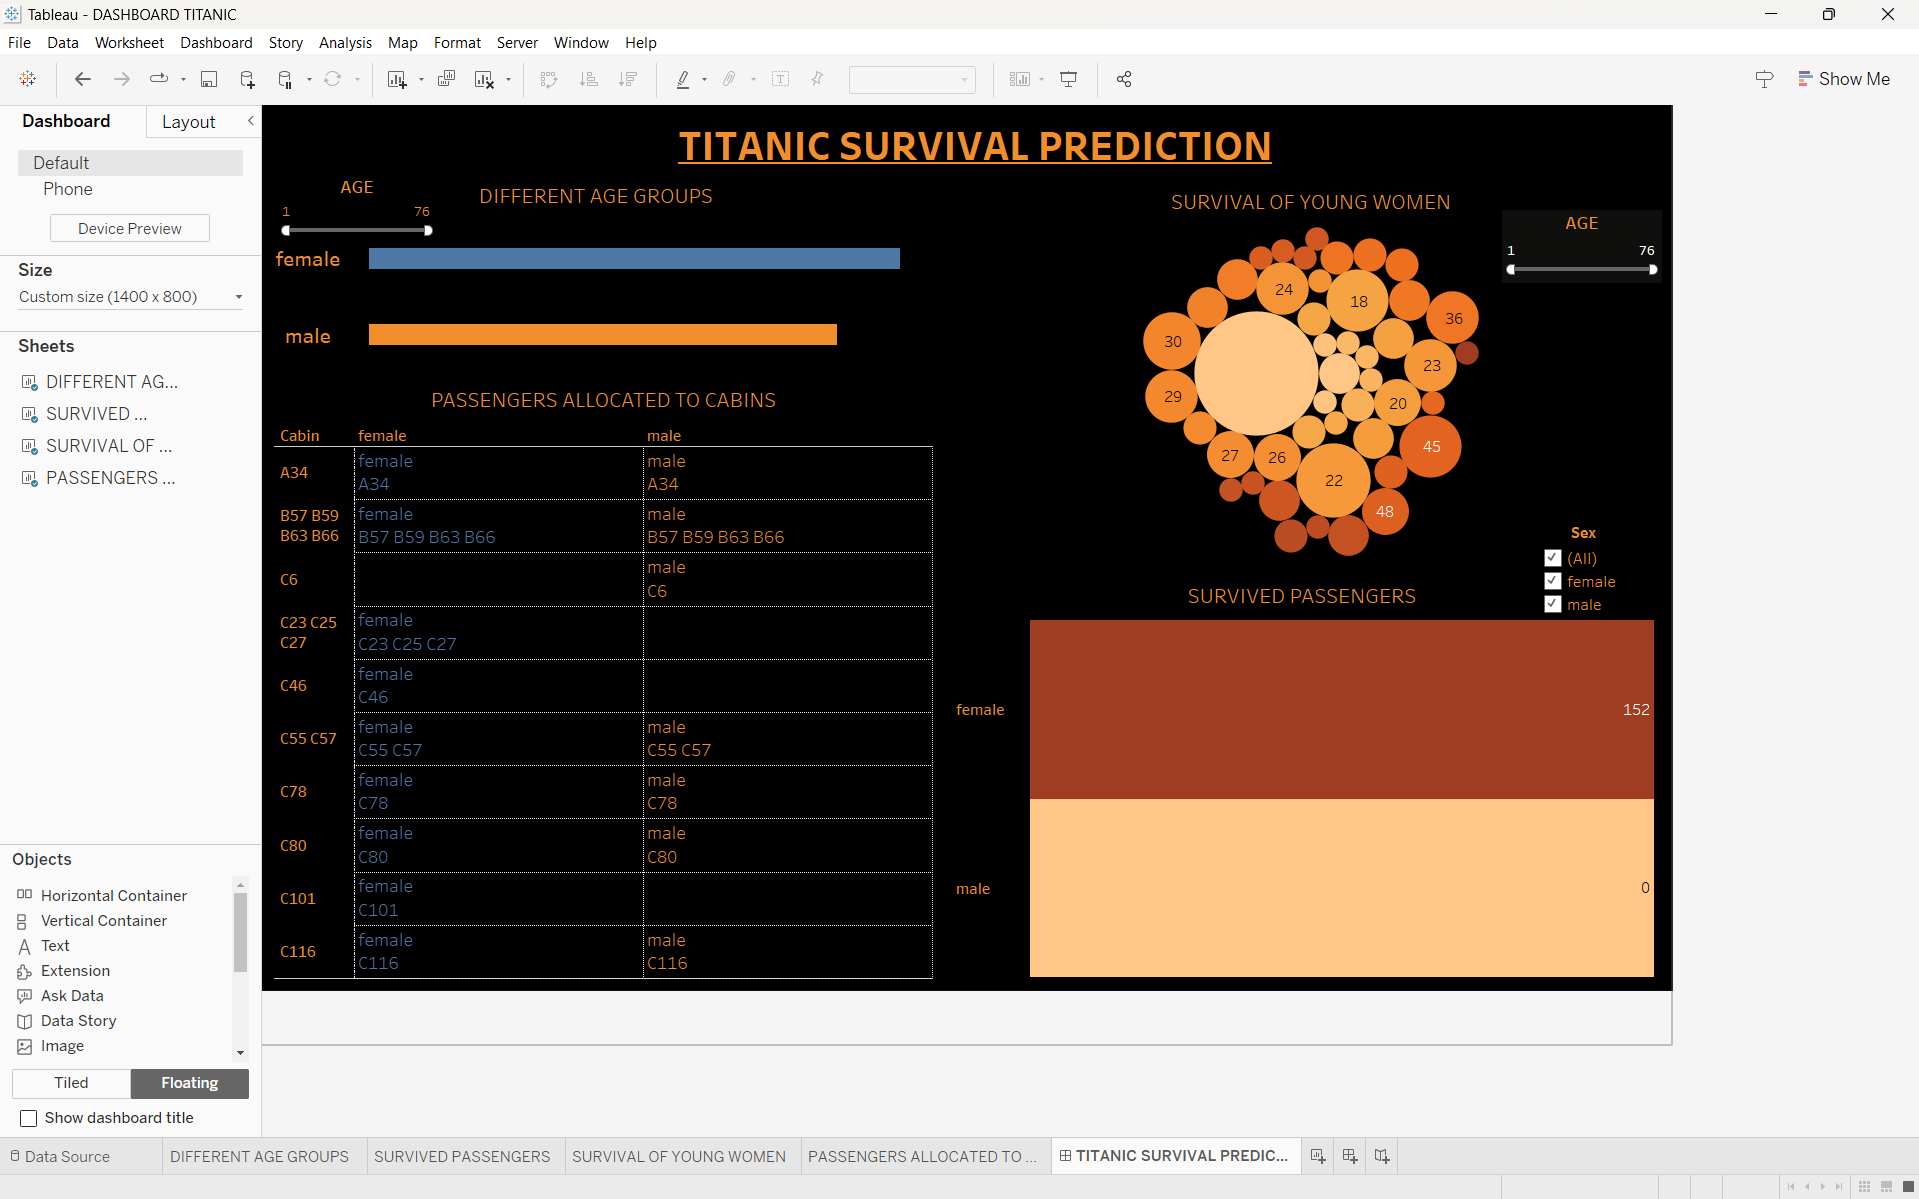

The dashboard page shown, as its layout file describes it:
{"tool":"tableau","page":{"name":"TITANIC SURVIVAL PREDICTION","canvas":[1400,800],"ordinal":0},"visuals":[{"type":"text","box":[1232,8,160,188]},{"type":"filter","title":"DIFFERENT AGE GROUPS ","param":"[federated.00s30fa0j1wzc4162kq0n0basjee].[none:Age:qk]","box":[15,69,160,66]},{"type":"worksheet","title":"DIFFERENT AGE GROUPS ","mark":"Bar","rows":["Sex"],"cols":["Age"],"box":[6,72,660,196]},{"type":"filter","title":"SURVIVAL OF YOUNG WOMEN","param":"[federated.00s30fa0j1wzc4162kq0n0basjee].[none:Age:qk]","box":[1240,105,160,73]},{"type":"filter","title":"SURVIVED PASSENGERS","param":"[federated.00s30fa0j1wzc4162kq0n0basjee].[none:Sex:nk]","box":[1275,417,93,98]}]}

Visuals, with their boxes on the page's 1400x800 design canvas (x1, y1, x2, y2). These are canvas units, not pixel positions in the 1919x1199 screenshot, which may show the page scaled, cropped or inside an application window:
text: pyautogui.locateOnScreen(1232, 8, 1392, 196)
"DIFFERENT AGE GROUPS " filter: pyautogui.locateOnScreen(15, 69, 175, 135)
"DIFFERENT AGE GROUPS " worksheet (Bar marks): pyautogui.locateOnScreen(6, 72, 666, 268)
"SURVIVAL OF YOUNG WOMEN" filter: pyautogui.locateOnScreen(1240, 105, 1400, 178)
"SURVIVED PASSENGERS" filter: pyautogui.locateOnScreen(1275, 417, 1368, 515)
